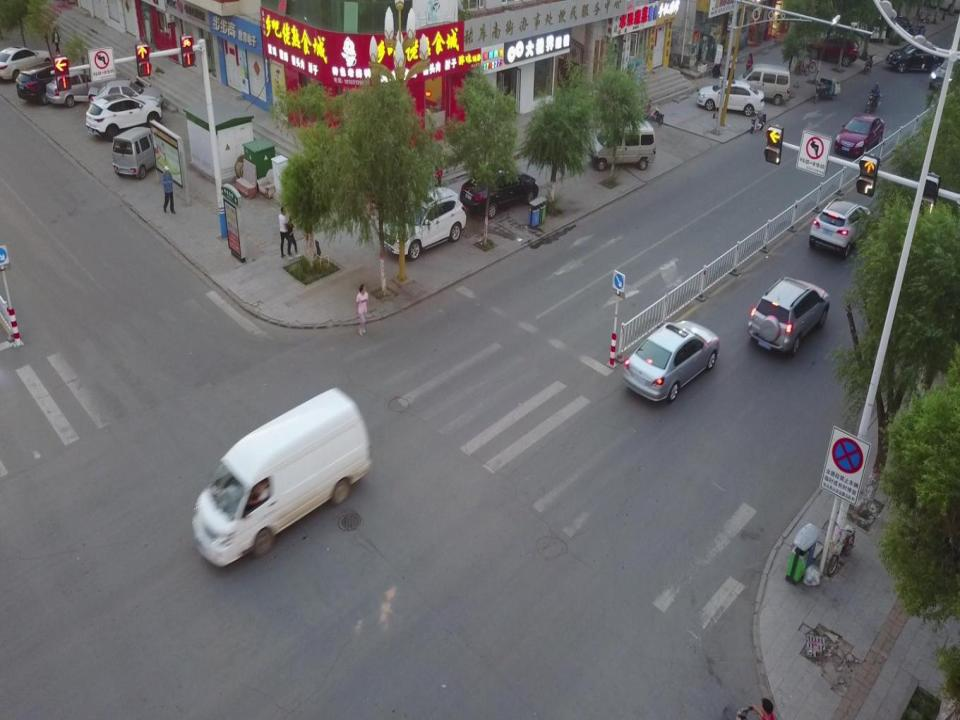car: (618, 312, 725, 410), (744, 271, 834, 362), (379, 182, 469, 262), (807, 193, 877, 262), (459, 166, 541, 214), (85, 92, 162, 142), (696, 74, 764, 121), (832, 107, 889, 161), (14, 62, 79, 106), (44, 68, 110, 107), (804, 27, 862, 69), (882, 37, 944, 76), (87, 82, 165, 113), (0, 43, 55, 84), (929, 50, 960, 94), (842, 15, 889, 42), (875, 11, 914, 39)
van: (183, 379, 372, 580), (587, 116, 659, 177), (111, 122, 171, 181), (736, 62, 794, 108)
